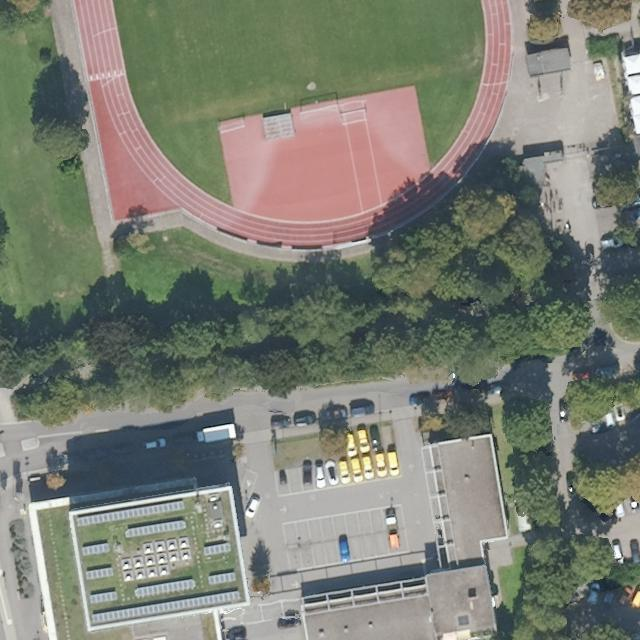PV: (88, 586, 243, 628), (74, 498, 188, 530), (129, 575, 201, 602), (122, 518, 188, 541), (199, 541, 234, 561), (83, 565, 114, 584), (80, 541, 109, 560), (87, 588, 119, 605), (206, 570, 238, 587)
